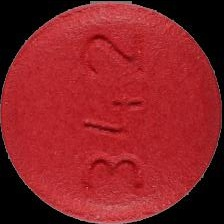68788-9327: (0, 0, 224, 224)
